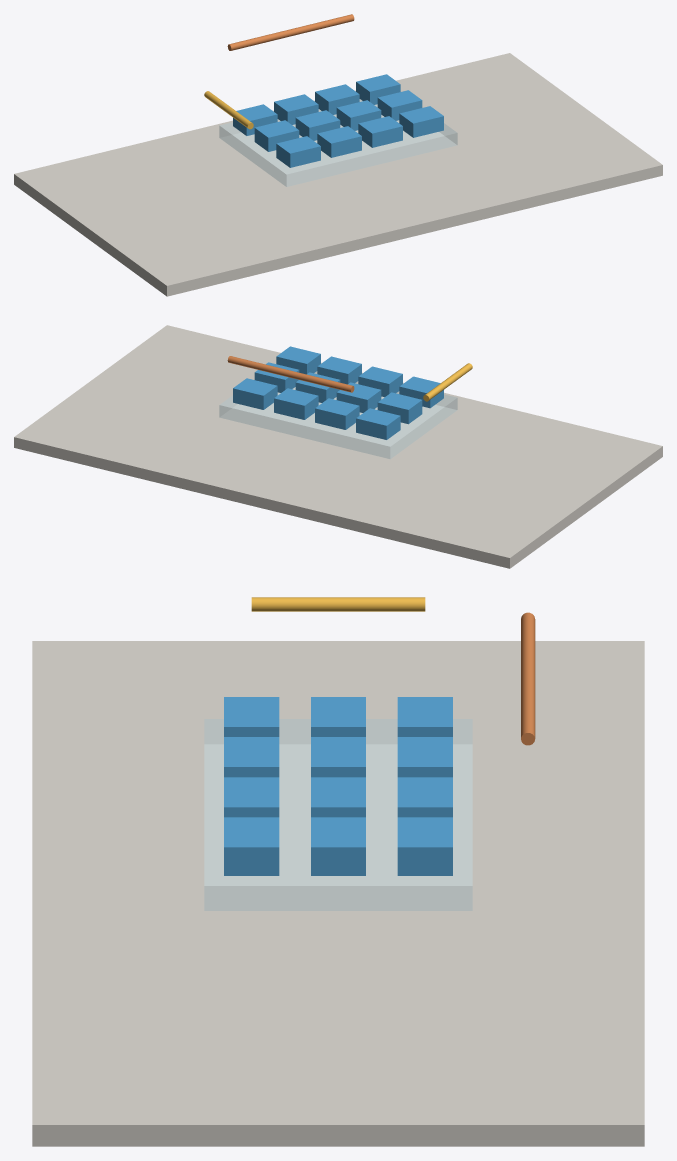
Rendered from math-number-factors.glb.
3 renders of one model, top to bottom at view 1: azimuth 30°, elevation 25°; view 2: azimuth 150°, elevation 25°; view 3: azimuth 270°, elevation 25°, orthographic. The views are drawn at different scales.
Parts seen in each view (by area): view 1: number-sense-base, product-twelve-tile, factor-array-3-by-4-cell-3-1, factor-array-3-by-4-cell-3-4, factor-array-3-by-4-cell-3-2, factor-array-3-by-4-cell-3-3, factor-four-side, factor-array-3-by-4-cell-2-1, factor-array-3-by-4-cell-2-3, factor-array-3-by-4-cell-2-4, factor-array-3-by-4-cell-2-2, factor-array-3-by-4-cell-1-2 (+4 smaller); view 2: number-sense-base, product-twelve-tile, factor-array-3-by-4-cell-1-1, factor-array-3-by-4-cell-1-2, factor-array-3-by-4-cell-1-3, factor-array-3-by-4-cell-1-4, factor-four-side, factor-array-3-by-4-cell-2-1, factor-array-3-by-4-cell-3-2, factor-array-3-by-4-cell-3-4, factor-array-3-by-4-cell-3-3, factor-array-3-by-4-cell-2-2 (+4 smaller); view 3: number-sense-base, product-twelve-tile, factor-array-3-by-4-cell-1-4, factor-array-3-by-4-cell-3-4, factor-array-3-by-4-cell-2-4, factor-three-side, factor-array-3-by-4-cell-1-2, factor-array-3-by-4-cell-1-3, factor-array-3-by-4-cell-3-2, factor-array-3-by-4-cell-3-3, factor-array-3-by-4-cell-2-2, factor-array-3-by-4-cell-2-3 (+4 smaller).
Boxes of the visible parts, x1,y1,x2,y2 form: number-sense-base: (14, 53, 662, 296); product-twelve-tile: (219, 99, 457, 186); factor-array-3-by-4-cell-3-1: (276, 136, 320, 167); factor-array-3-by-4-cell-3-4: (399, 106, 443, 137); factor-array-3-by-4-cell-3-2: (317, 126, 361, 157); factor-array-3-by-4-cell-3-3: (358, 116, 402, 147); factor-four-side: (227, 14, 354, 50); factor-array-3-by-4-cell-2-1: (254, 120, 299, 151); factor-array-3-by-4-cell-2-3: (336, 100, 381, 130); factor-array-3-by-4-cell-2-4: (377, 90, 422, 120); factor-array-3-by-4-cell-2-2: (295, 110, 340, 140); factor-array-3-by-4-cell-1-2: (274, 94, 318, 124); number-sense-base: (14, 325, 662, 568); product-twelve-tile: (219, 371, 457, 458); factor-array-3-by-4-cell-1-1: (356, 408, 400, 439); factor-array-3-by-4-cell-1-2: (315, 398, 359, 429); factor-array-3-by-4-cell-1-3: (274, 388, 318, 419); factor-array-3-by-4-cell-1-4: (233, 378, 277, 409); factor-four-side: (227, 356, 354, 392); factor-array-3-by-4-cell-2-1: (377, 392, 422, 424); factor-array-3-by-4-cell-3-2: (358, 366, 402, 397); factor-array-3-by-4-cell-3-4: (276, 346, 320, 374); factor-array-3-by-4-cell-3-3: (317, 356, 361, 384); factor-array-3-by-4-cell-2-2: (336, 382, 381, 412); number-sense-base: (32, 641, 644, 1146); product-twelve-tile: (204, 719, 472, 910); factor-array-3-by-4-cell-1-4: (397, 817, 452, 875); factor-array-3-by-4-cell-3-4: (224, 817, 279, 875); factor-array-3-by-4-cell-2-4: (311, 817, 365, 875); factor-three-side: (251, 597, 425, 611); factor-array-3-by-4-cell-1-2: (397, 737, 452, 777); factor-array-3-by-4-cell-1-3: (397, 777, 452, 817); factor-array-3-by-4-cell-3-2: (224, 737, 279, 777); factor-array-3-by-4-cell-3-3: (224, 777, 279, 817); factor-array-3-by-4-cell-2-2: (311, 737, 365, 777); factor-array-3-by-4-cell-2-3: (311, 777, 365, 817).
Size of what is drawn, in the model's own units: 2.9 by 0.6475 by 1.55.
